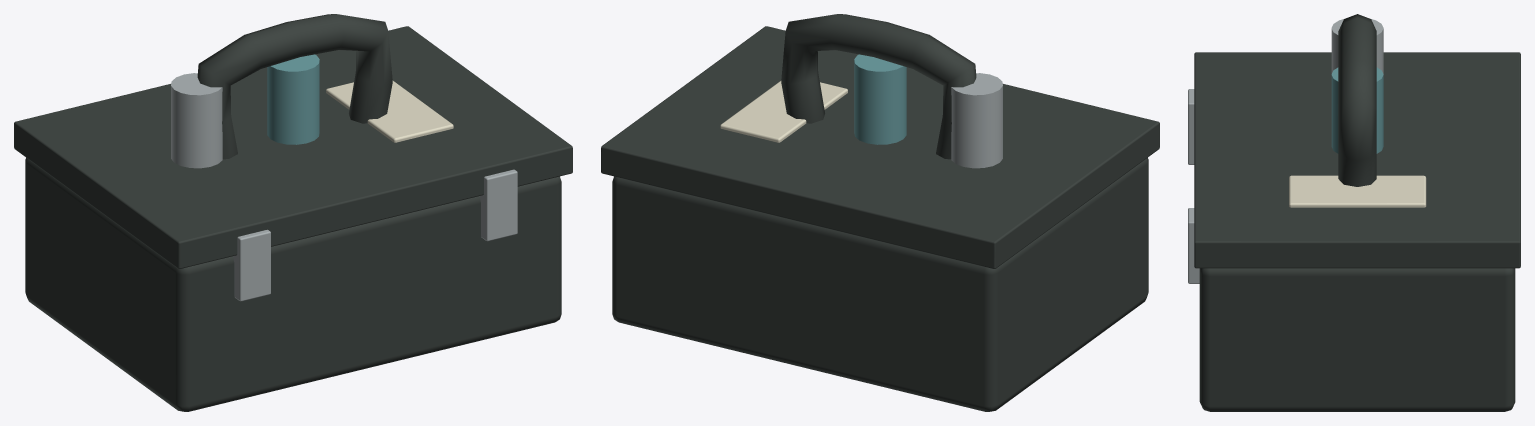
File: water-collection-and-purification-water-testing-case-f4a3384d__20207.glb
3 views of the same model, side by side, from view 1: azimuth 30°, elevation 25°; view 2: azimuth 150°, elevation 25°; view 3: azimuth 270°, elevation 25° (orthographic).
Visible parts, largest first — view 1: water-testing-case, lid/dark; view 2: water-testing-case, lid/dark; view 3: lid/dark, water-testing-case.
Boxes of the visible parts, box(x1,y1,x2,y2) form: water-testing-case: box(25, 14, 561, 411); lid/dark: box(14, 26, 572, 268); water-testing-case: box(612, 14, 1148, 411); lid/dark: box(601, 26, 1159, 268); lid/dark: box(1194, 52, 1520, 268); water-testing-case: box(1188, 14, 1515, 411).
Bounding box in the file's own units: 0.328 × 0.2307 × 0.2425.
